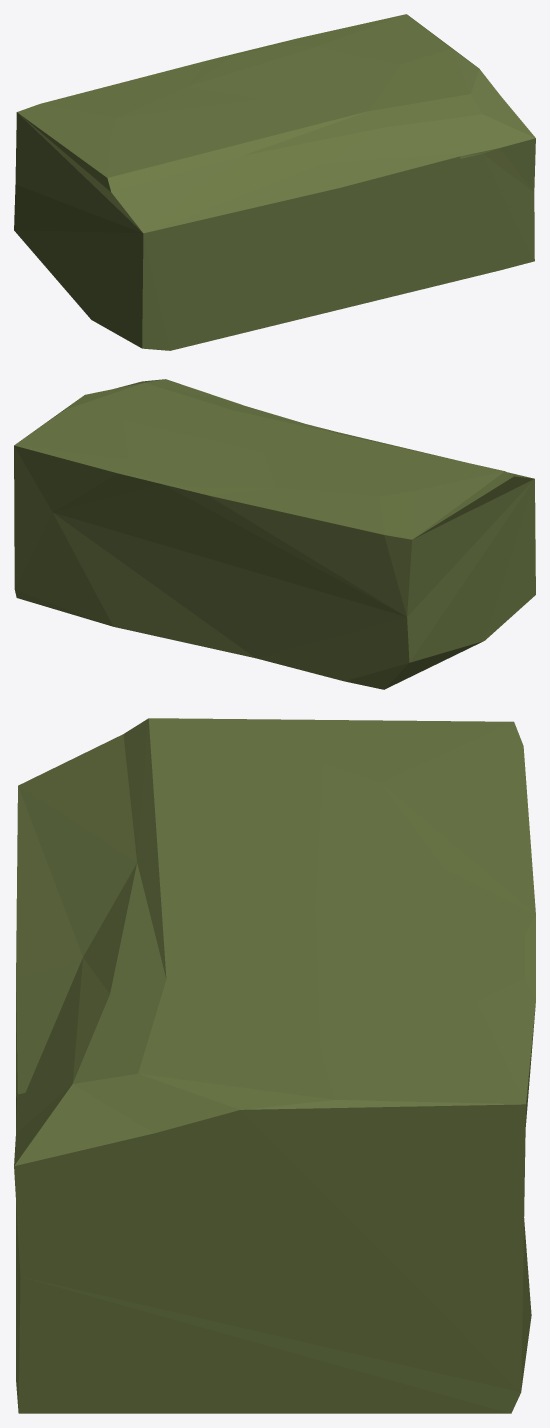
The model's file is ground_31.fbx.
3 views of the same model, one above another, from view 1: azimuth 30°, elevation 25°; view 2: azimuth 150°, elevation 25°; view 3: azimuth 270°, elevation 25° (orthographic). The views are drawn at different scales.
Visible parts, largest first — view 1: ground_31; view 2: ground_31; view 3: ground_31.
Boxes of the visible parts, box(x1,y1,x2,y2) form: ground_31: box(14, 14, 535, 350); ground_31: box(14, 379, 535, 689); ground_31: box(14, 718, 535, 1413).
Size of the model in its own units: 8.19 by 3.09 by 4.67.
